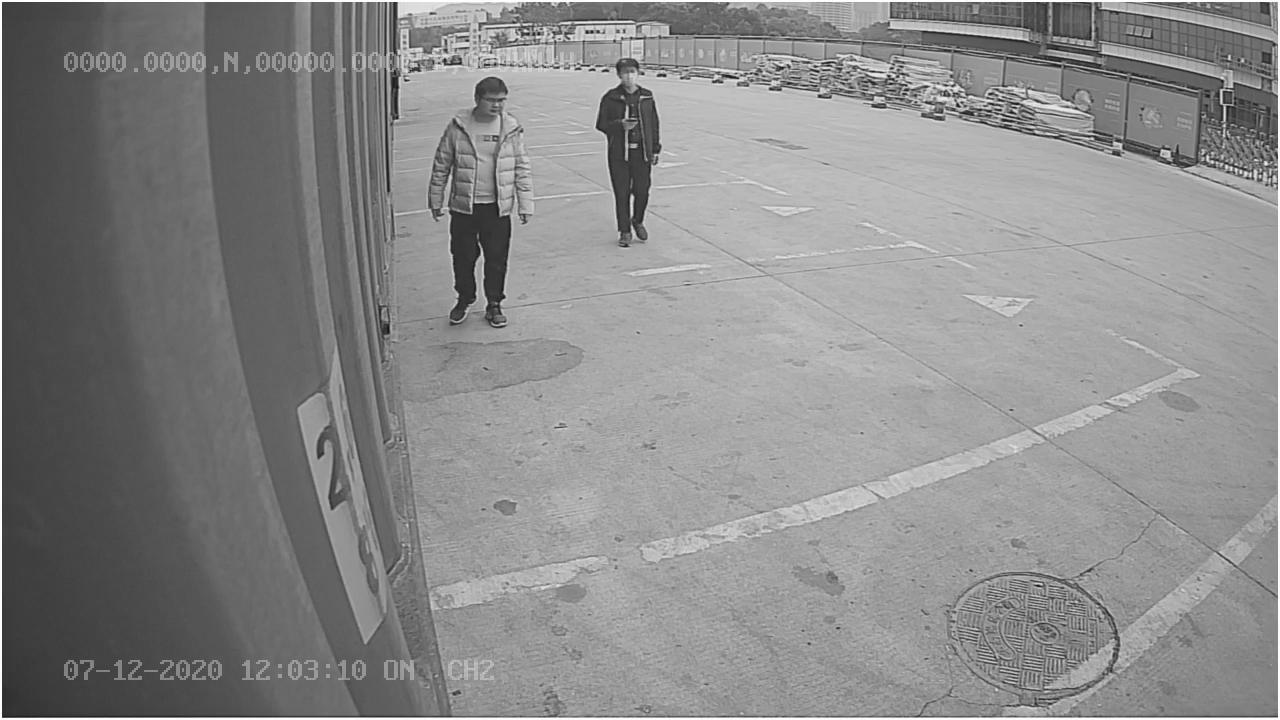person: (426, 73, 535, 333)
